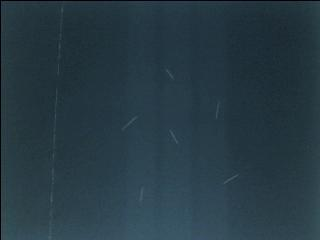crack: (43, 1, 68, 240)
scratch: (115, 112, 142, 136), (159, 63, 179, 85), (165, 126, 184, 149), (219, 169, 243, 185), (137, 183, 147, 207), (216, 97, 226, 119)
